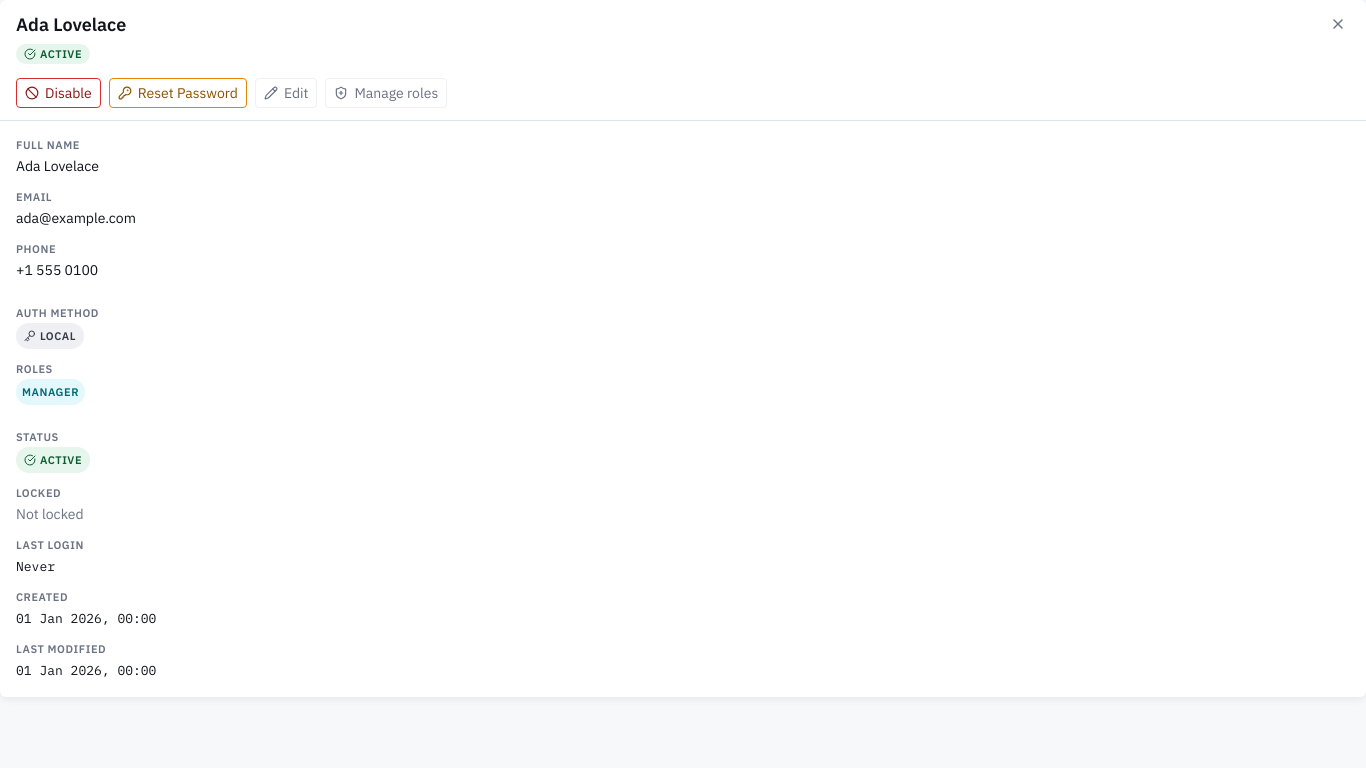
Test: UserDetail manageRoles mode › renders the role assignment panel and hides the read-only badges when Manage roles is clicked
Click the button "Manage roles" at (386, 93), box [326,78,447,108]
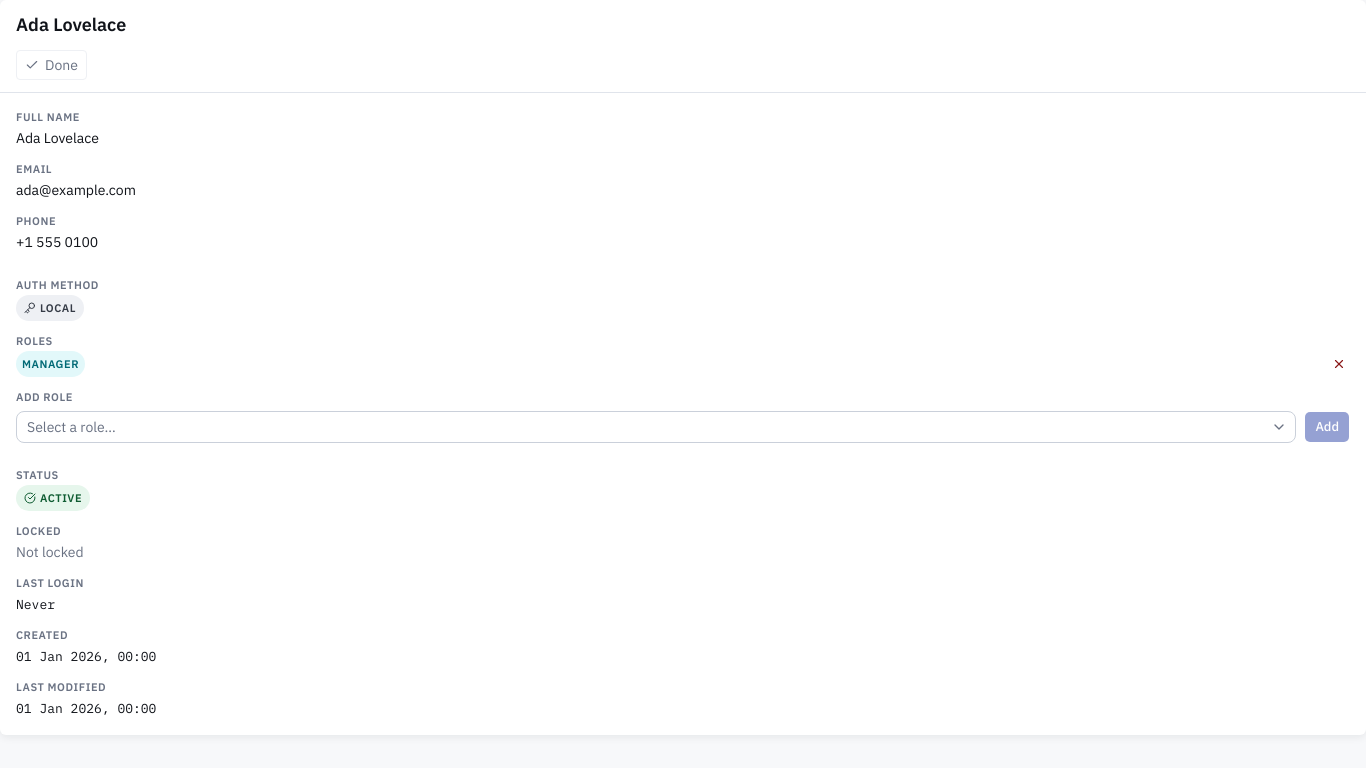
Check: the text "Add role" is shown, box [16,390,73,404]
Check: the button named "Remove MANAGER" is shown, box [1328,353,1350,375]
